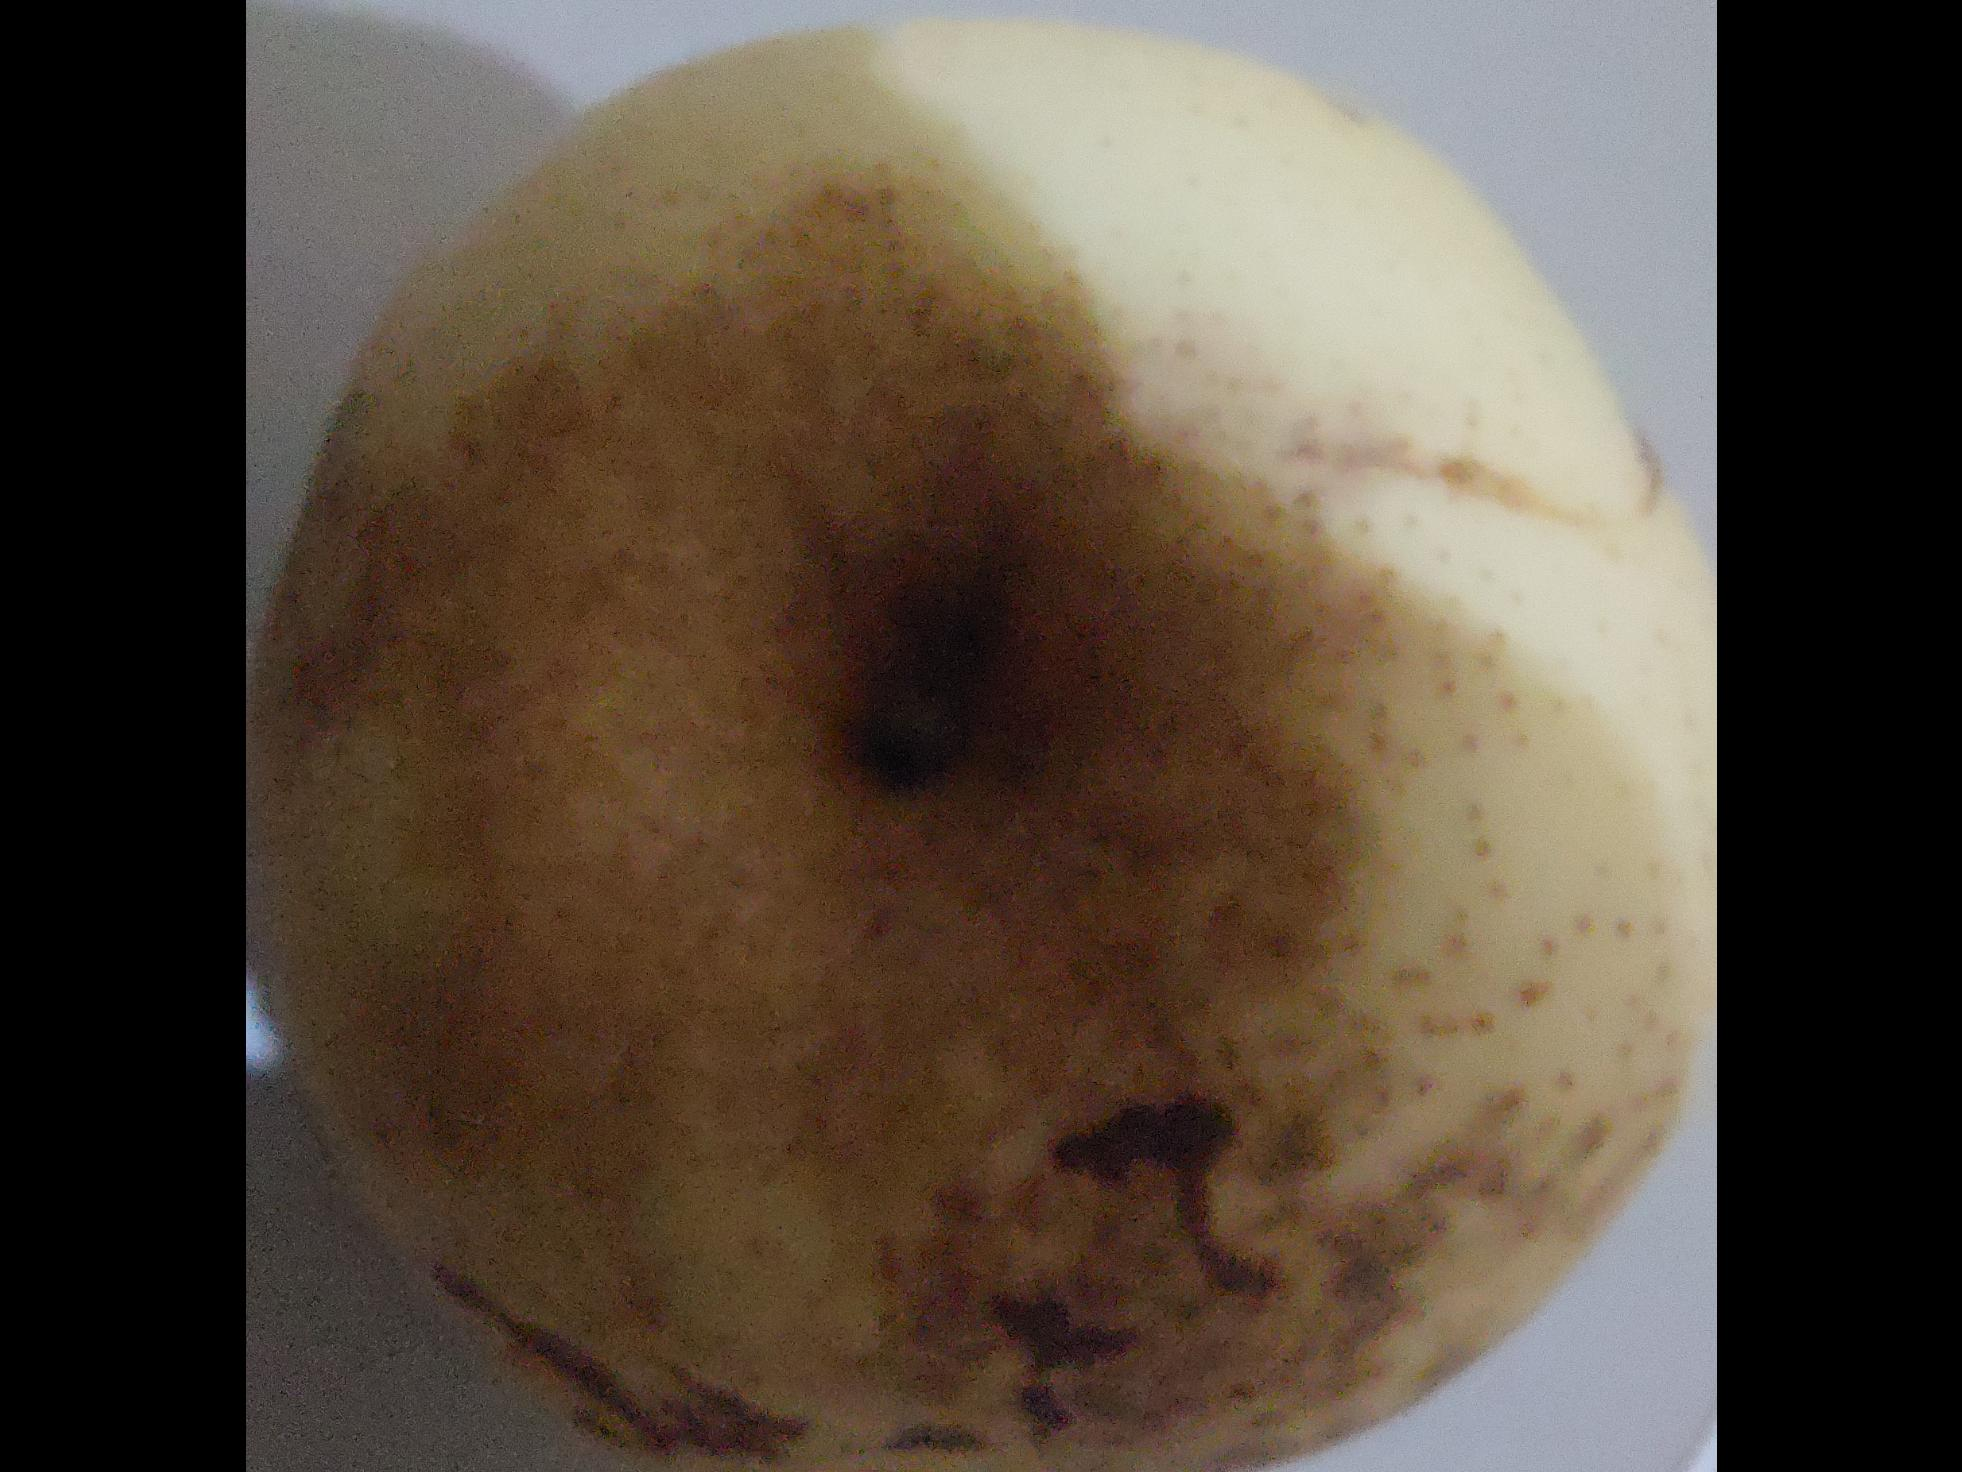Bad Pear: (254, 15, 1718, 1472)
